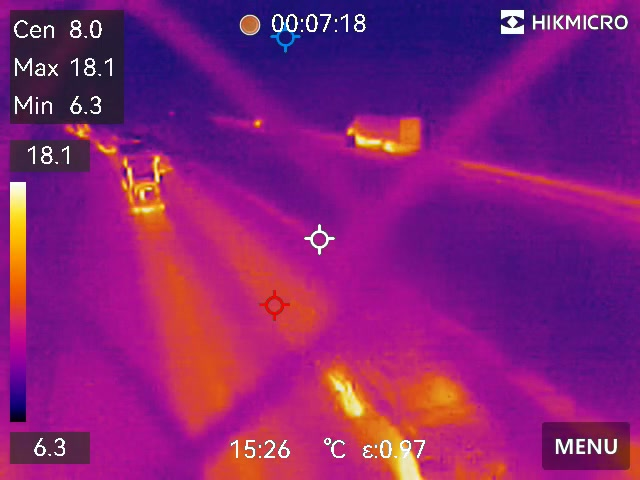heavyTruck: (118, 150, 170, 214), (345, 113, 425, 153)
